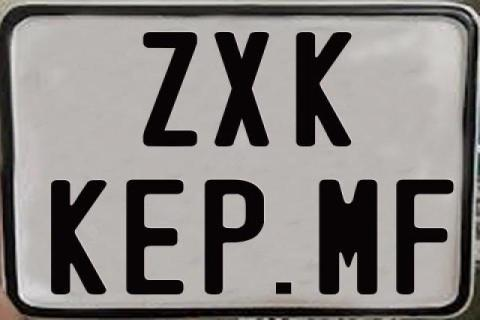E: (124, 178, 183, 298)
F: (394, 177, 455, 295)
K: (49, 178, 111, 292), (296, 31, 356, 145)
M: (318, 178, 379, 294)
P: (204, 179, 266, 295)
X: (214, 32, 271, 151)
Z: (143, 32, 203, 150)
